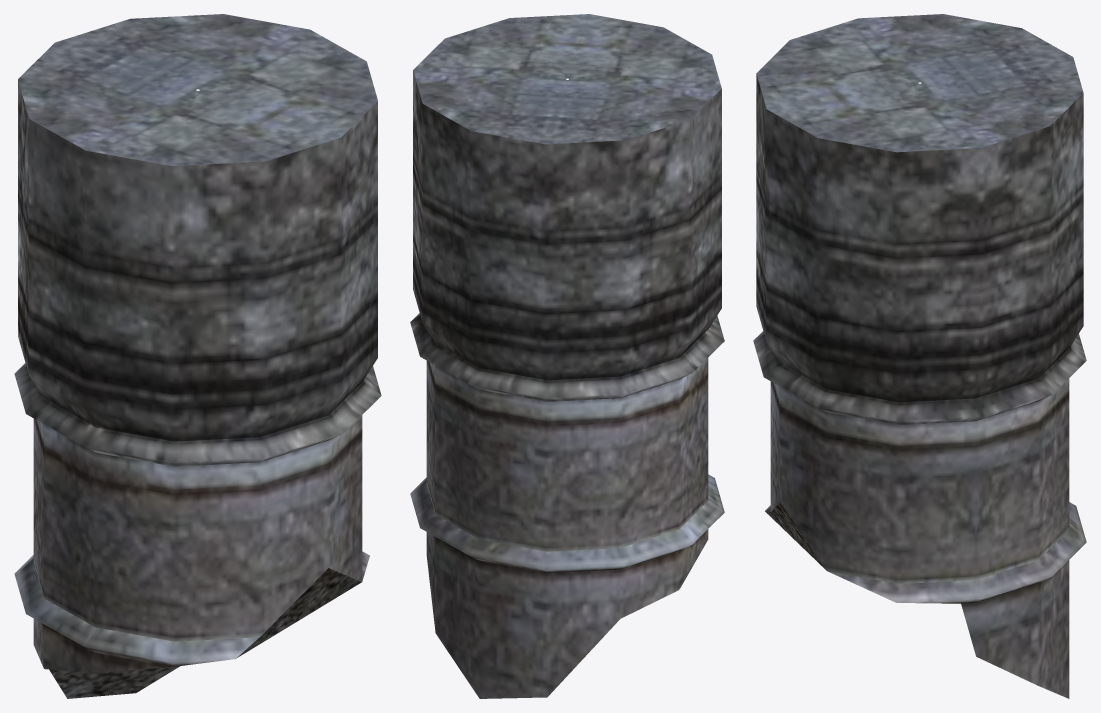
The picture shows the model from 3 angles, left to right: view 1: azimuth 30°, elevation 25°; view 2: azimuth 150°, elevation 25°; view 3: azimuth 270°, elevation 25°; orthographic projection. The views are drawn at different scales.
Parts seen in each view (by area): view 1: model_Object44; view 2: model_Object44; view 3: model_Object44.
Boxes of the visible parts, box(x1,y1,x2,y2) form: model_Object44: box(14, 14, 381, 698); model_Object44: box(410, 14, 724, 698); model_Object44: box(753, 14, 1086, 698).
Bounding box in the file's own units: 0.7425 × 1.49 × 0.7425.
3 materials, 3 textured.
